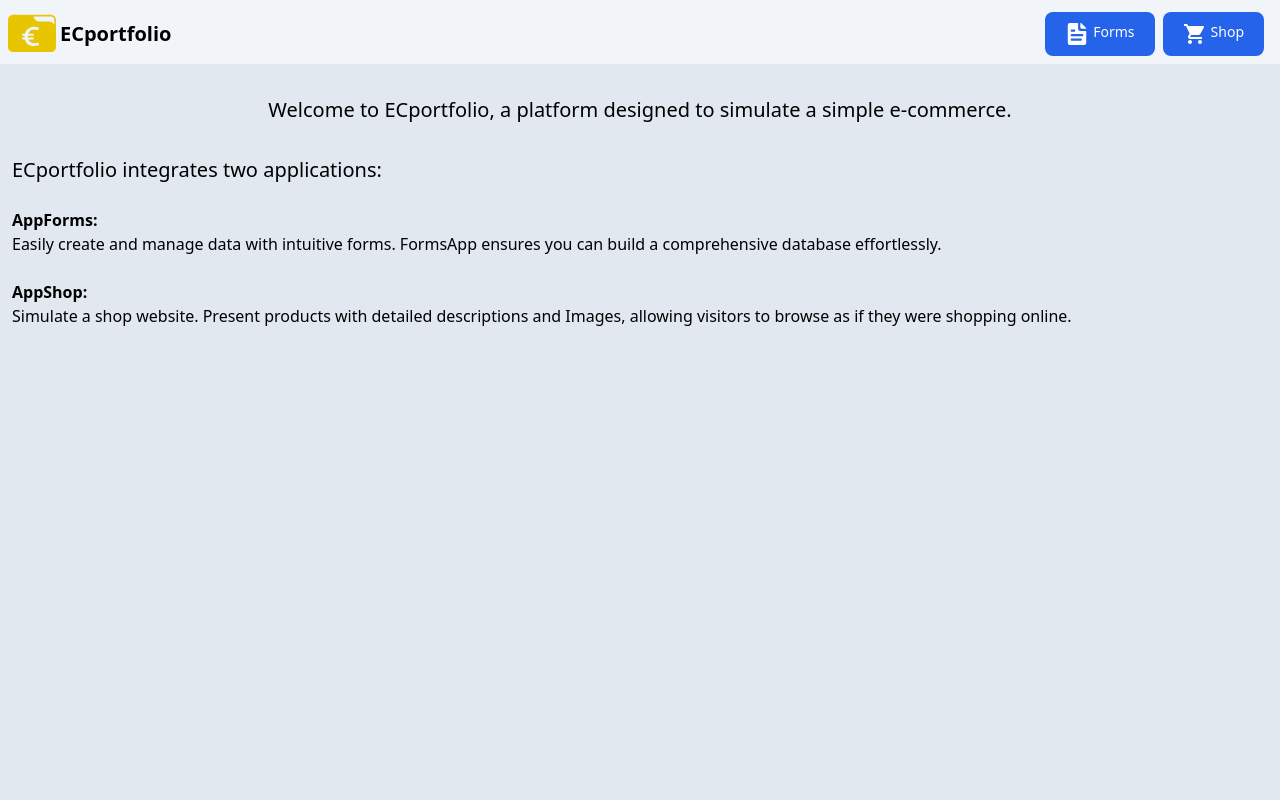
Test: Navigation Buttons › ToForms
Click the button with id "NavigationFormsApp".
click(1100, 34)  # box [1045,12,1154,56]
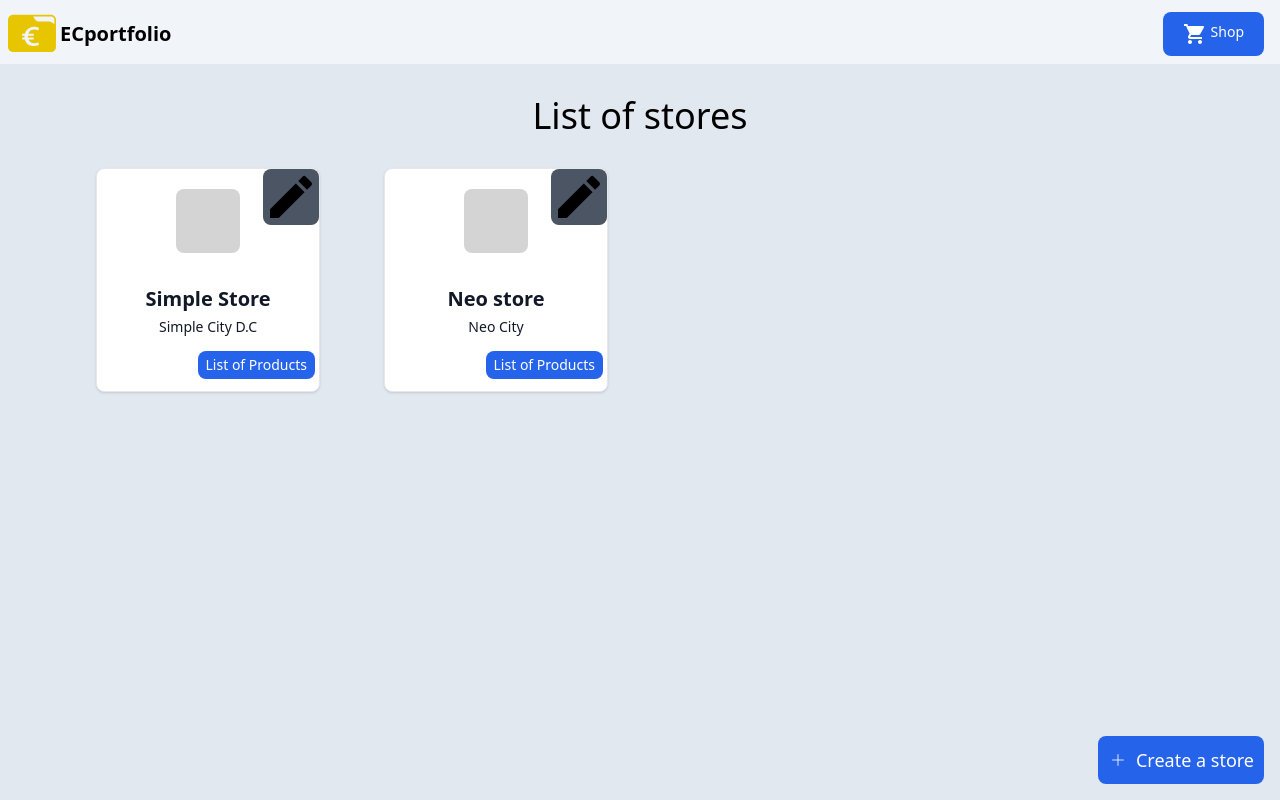
Expected: the button with id "NavigationShopApp" is shown, [1163,12,1264,56]
Now the button with id "NavigationFormsApp" is gone
Now the text "List of stores" is shown, box [532,91,748,140]
